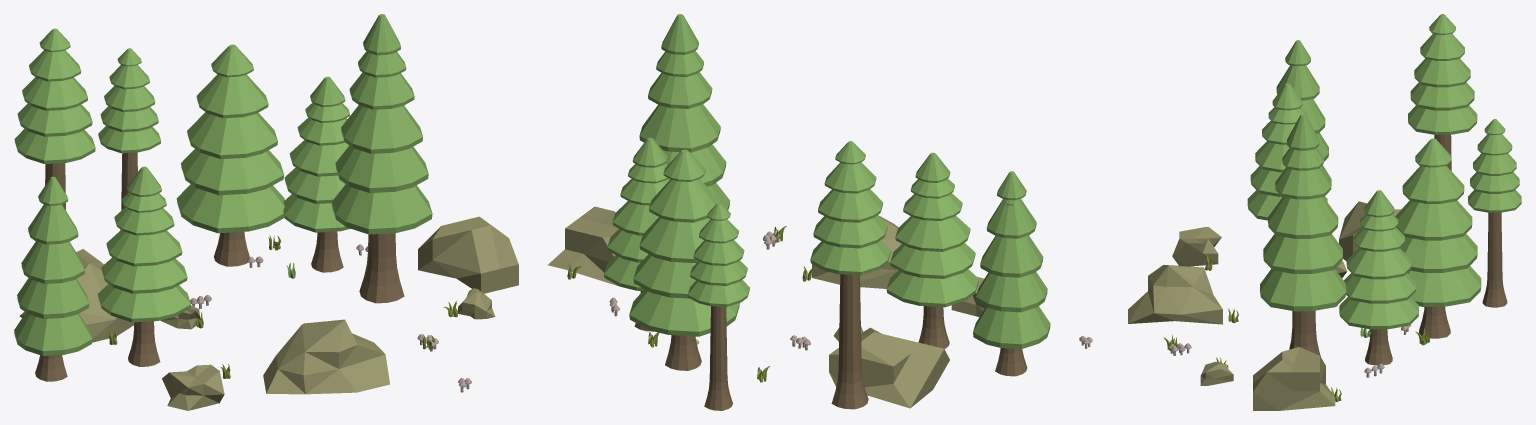
The model's file is ForrestF.fbx.
The picture shows the model from 3 angles, left to right: view 1: azimuth 30°, elevation 25°; view 2: azimuth 150°, elevation 25°; view 3: azimuth 270°, elevation 25°; orthographic projection. The views are drawn at different scales.
Parts seen in each view (by area): view 1: Forrestb; view 2: Forrestb; view 3: Forrestb.
Boxes of the visible parts, bbox=[...] form: Forrestb: bbox=[14, 14, 518, 410]; Forrestb: bbox=[547, 14, 1050, 410]; Forrestb: bbox=[1079, 14, 1521, 410].
Bounding box in the file's own units: 5084 × 2847 × 4519.
